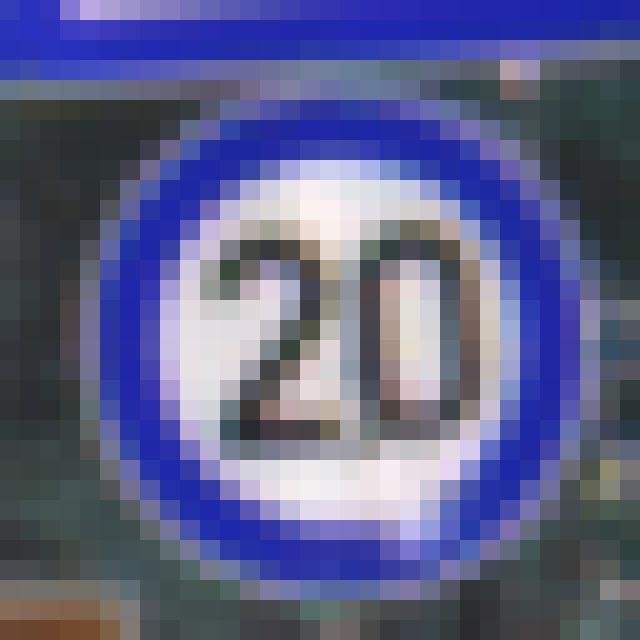SPEED LIMIT 20: (79, 94, 606, 594)
